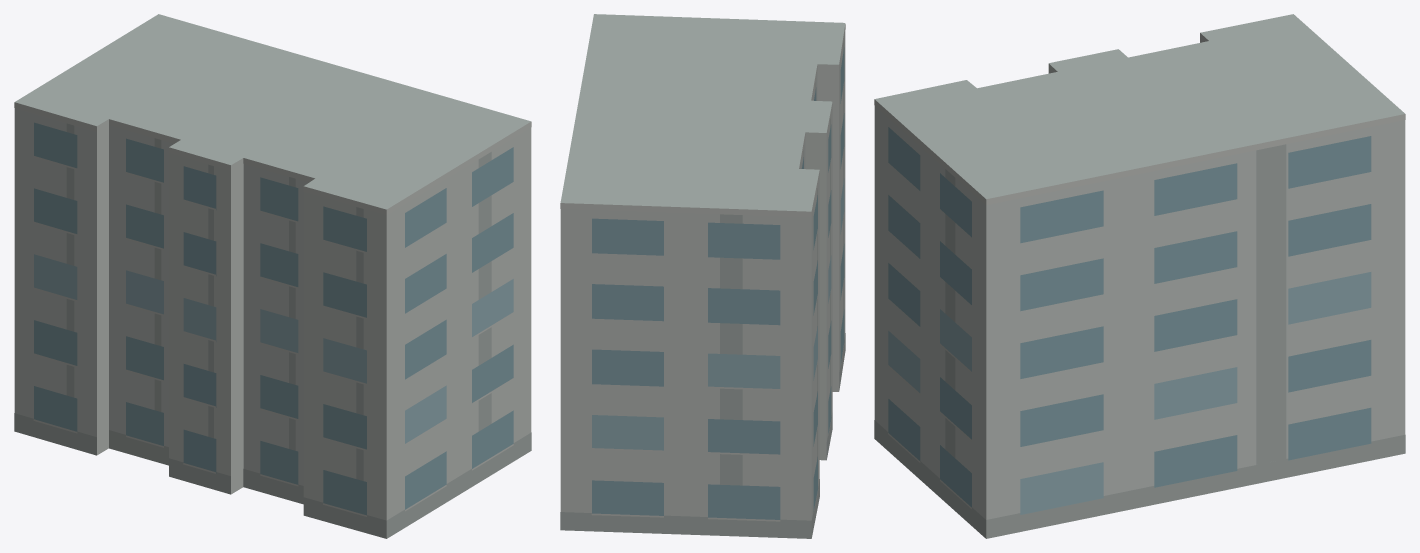
The model's file is survey-upis-32808061.glb.
3 renders of one model, left to right at view 1: azimuth 30°, elevation 25°; view 2: azimuth 150°, elevation 25°; view 3: azimuth 270°, elevation 25°, orthographic. The views are drawn at different scales.
Parts seen in each view (by area): view 1: survey-upis-32808061.tmp; view 2: survey-upis-32808061.tmp; view 3: survey-upis-32808061.tmp.
Part boxes in pixels (box(x1,y1,x2,y2)): survey-upis-32808061.tmp: box(14, 14, 531, 538); survey-upis-32808061.tmp: box(560, 14, 845, 538); survey-upis-32808061.tmp: box(874, 14, 1405, 538).
Size of the model in its own units: 15.91 by 13.6 by 19.28.
